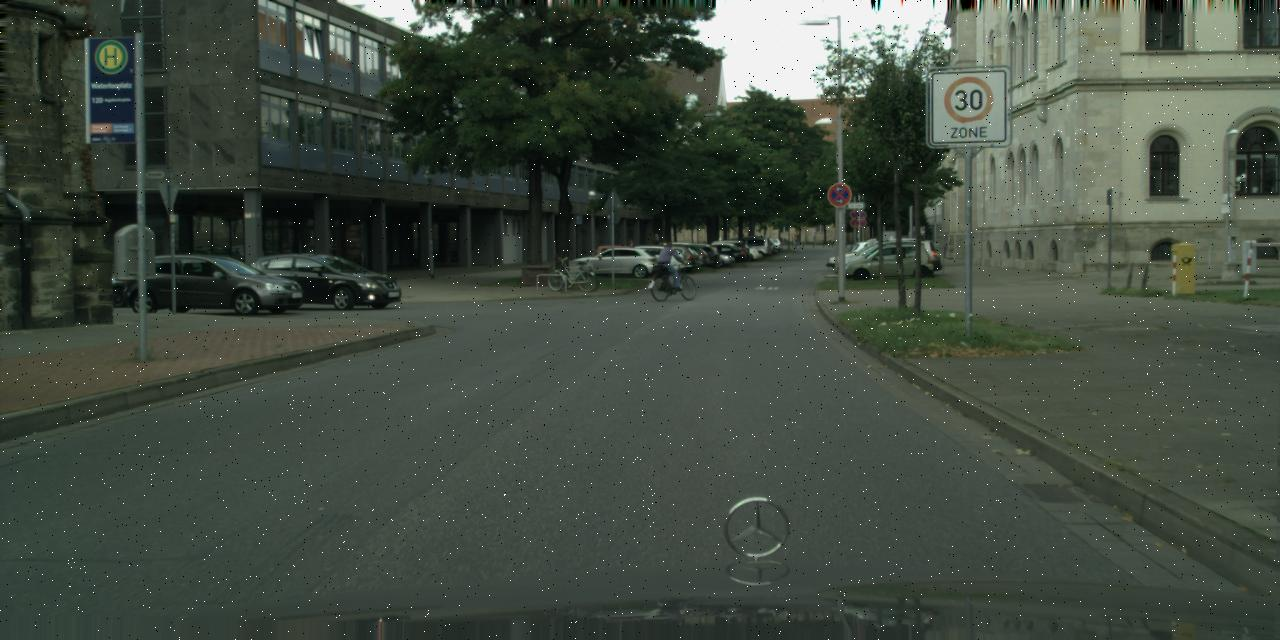ped: (660, 242, 679, 288), (651, 233, 660, 255), (626, 238, 634, 259), (793, 231, 800, 248)
